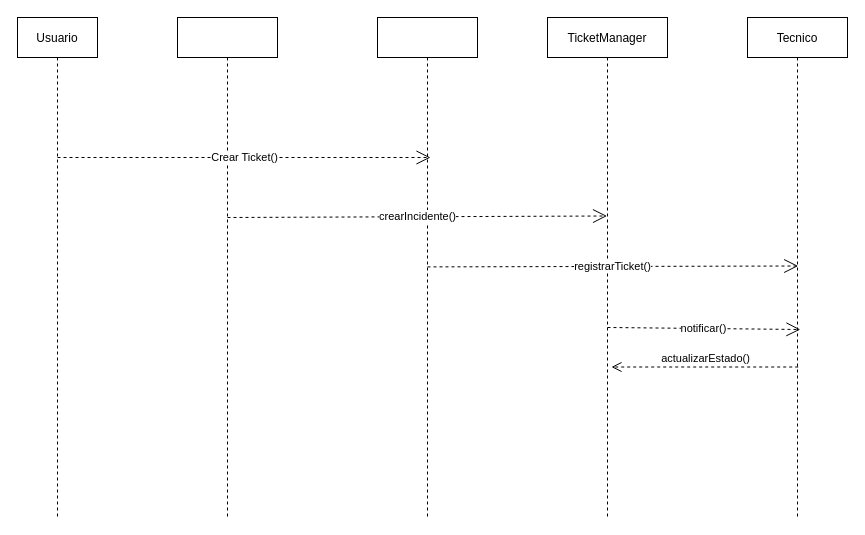
This 865x535 diagram has some shape labels left out. Here are the shapes that lost their labels. From the top down, the box of each, then its label:
(176, 16, 278, 518): Controller
(376, 16, 478, 518): Factory
